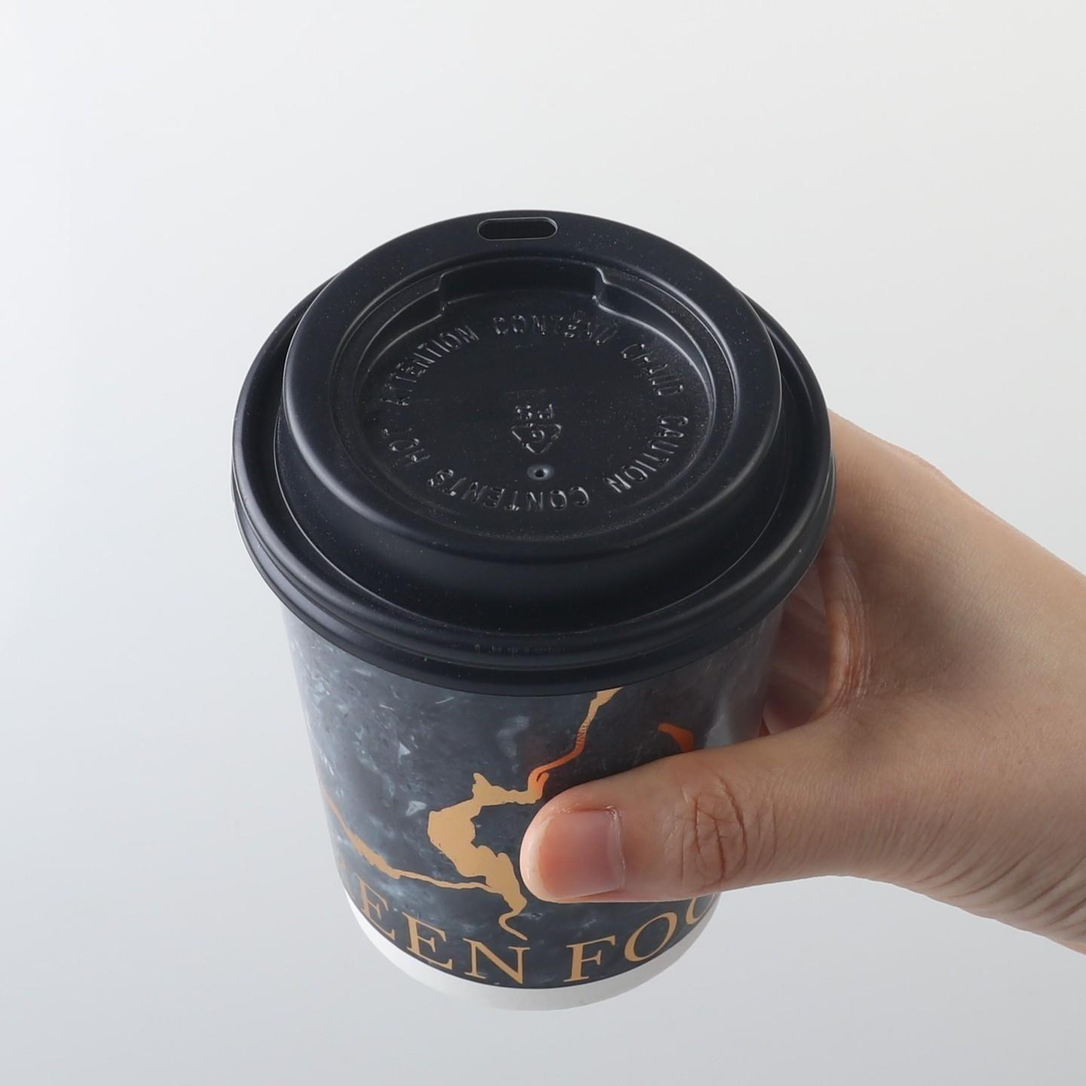cup-disposable: (217, 197, 844, 1014)
